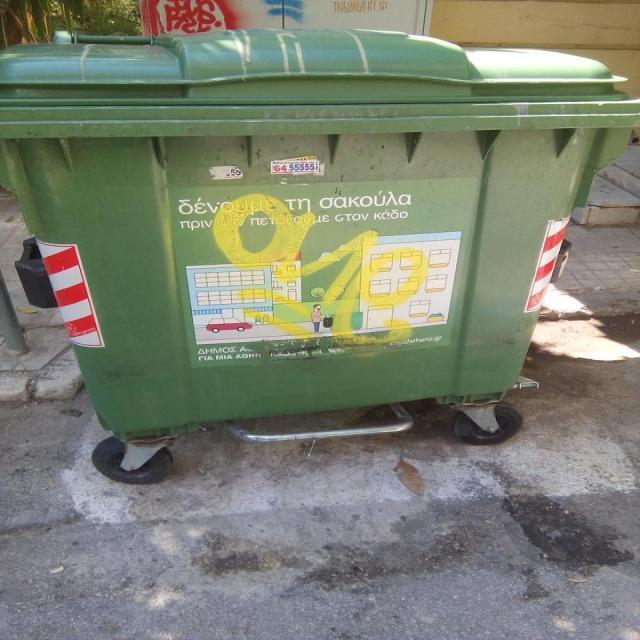nonspitting: (210, 192, 428, 344), (140, 0, 240, 33), (264, 0, 306, 18)
